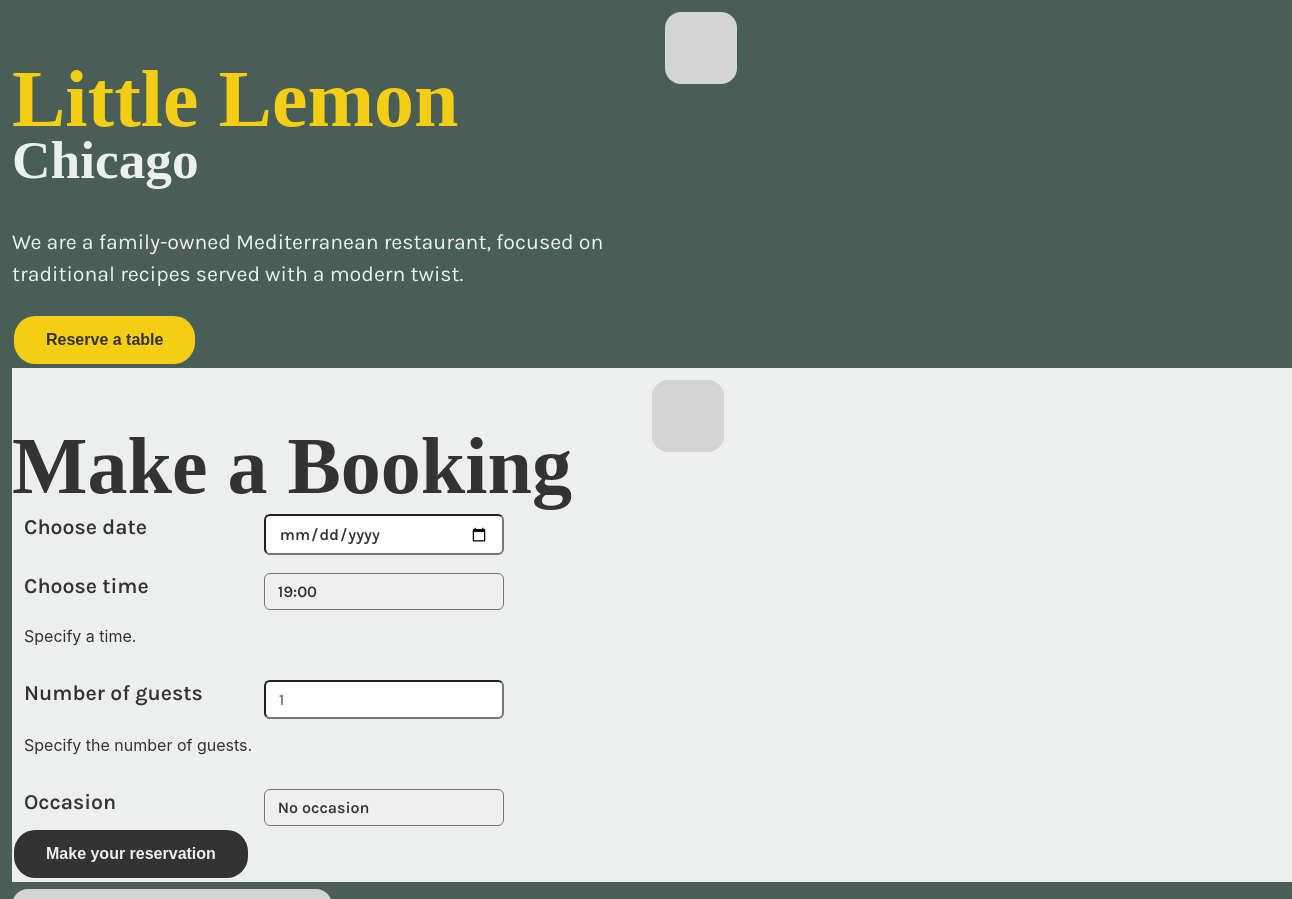
Test: Check that not more than 10 people can book the restaurant table
The image size is (1292, 899).
Type "12" into the number field labelled "Number of guests" at (384, 700), box [264, 680, 504, 719]
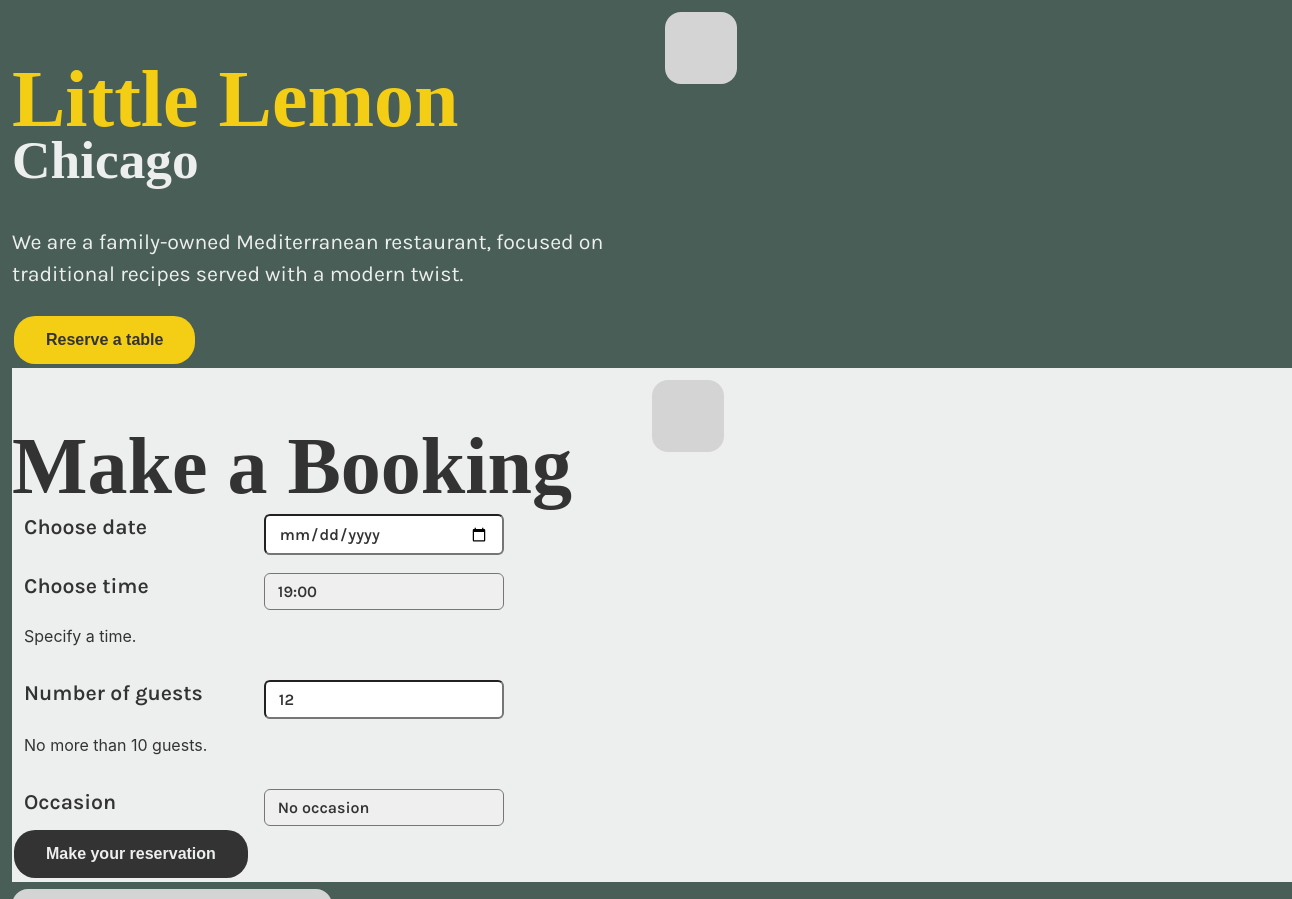
Check: the text "No more than 10 guests." is shown, box [24, 735, 207, 755]
